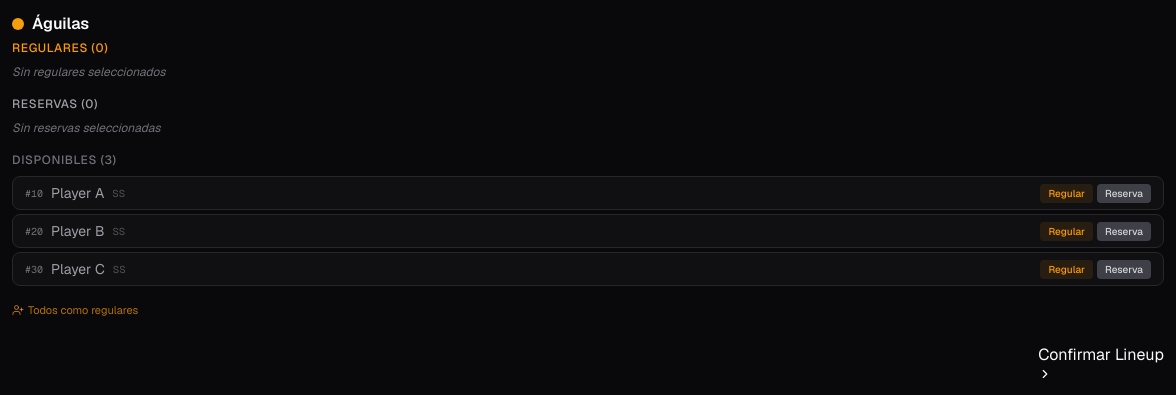
Test case: LineupSelector › assigns a player as regular when clicking Regular button
The image size is (1176, 395).
What coordinates should you click on to do the following:
click the button "Regular" in the row of "Player A"
I would click on:
 (1067, 193)
Its box is [1040,184,1093,202].
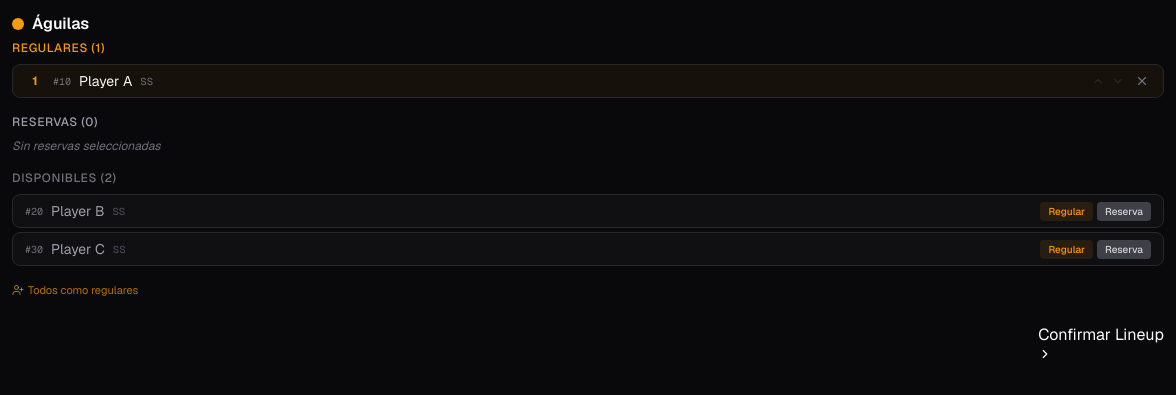
expect the heading "Regulares (1)" is shown: met, box [12,40,105,56]
expect the heading "Disponibles (2)" is shown: met, box [12,170,117,186]
